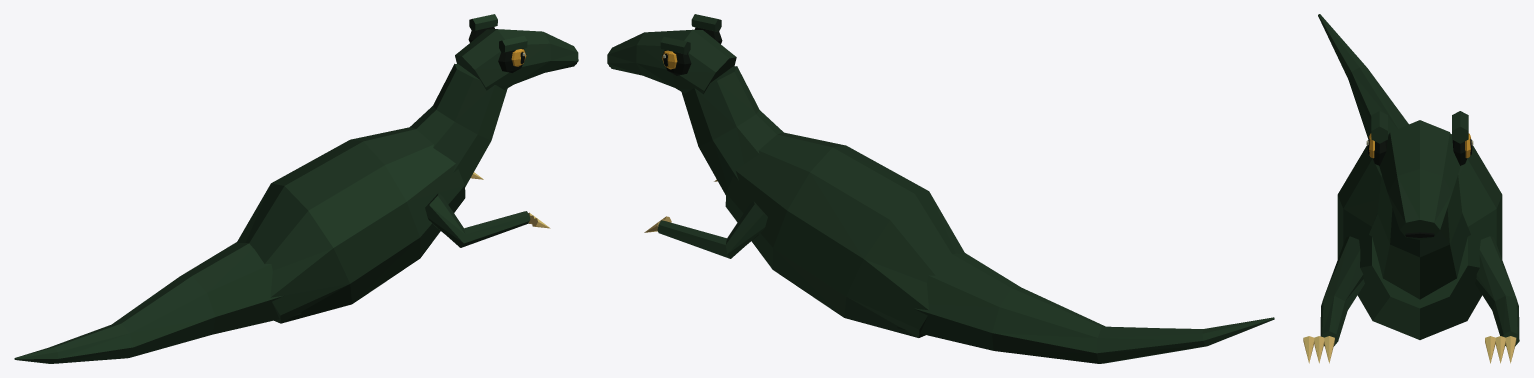
Rendered from SM_velociraptor_Body.fbx.
3 views of the same model, side by side, from view 1: azimuth 30°, elevation 25°; view 2: azimuth 150°, elevation 25°; view 3: azimuth 270°, elevation 25° (orthographic). The views are drawn at different scales.
Visible parts, largest first — view 1: SM_velociraptor_Body export; view 2: SM_velociraptor_Body export; view 3: SM_velociraptor_Body export.
Part boxes in pixels (x1,y1,x2,y2): SM_velociraptor_Body export: (14,14,578,363); SM_velociraptor_Body export: (607,14,1274,363); SM_velociraptor_Body export: (1303,14,1519,363).
Size of the model in its own units: 930 by 214 by 354.
